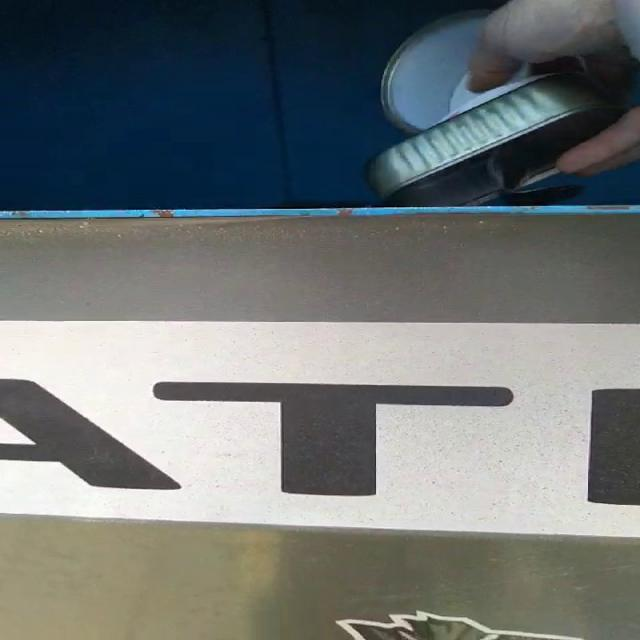bin: (1, 0, 640, 323), (1, 464, 640, 640)
metal: (369, 10, 623, 204)
